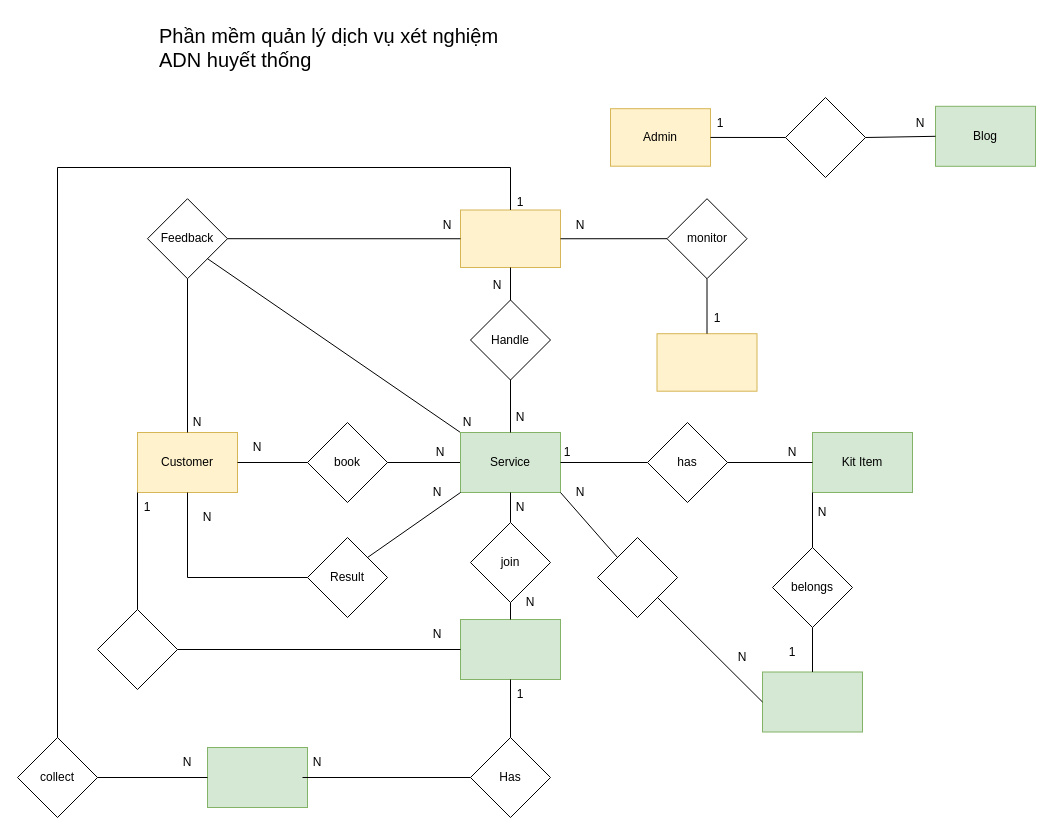
Some shapes in this 1053 by 835 pixel diagram are drawn without their labels. Each missing label, with the centre of its shape:
"Kit Type" goes at point (812, 701).
"Manager" goes at point (706, 362).
"Participant" goes at point (510, 649).
"Post" goes at point (825, 137).
"registers" goes at point (137, 649).
"Staff" goes at point (510, 238).
"TestSample" goes at point (257, 777).
"use" goes at point (637, 577).
